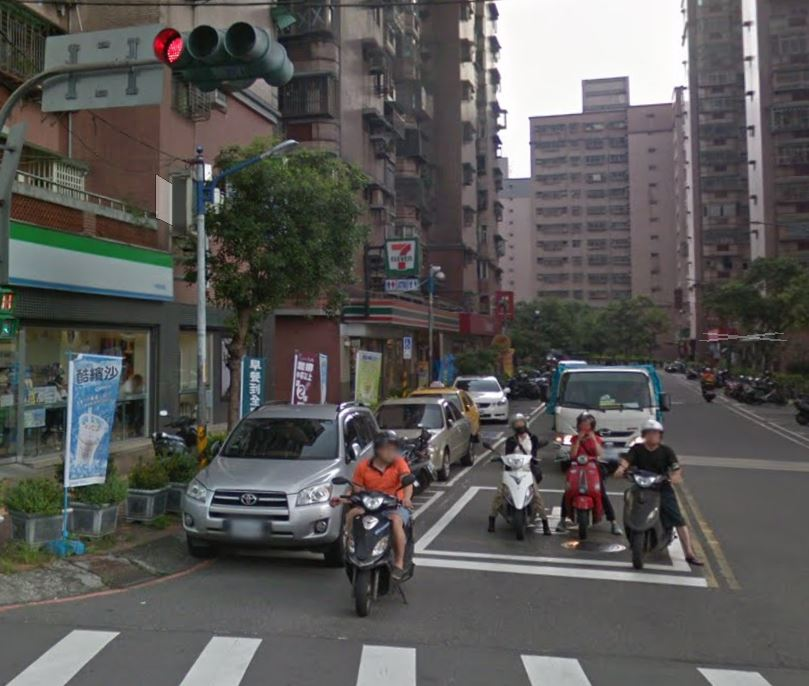Traffic_light_red: (153, 19, 270, 65)
